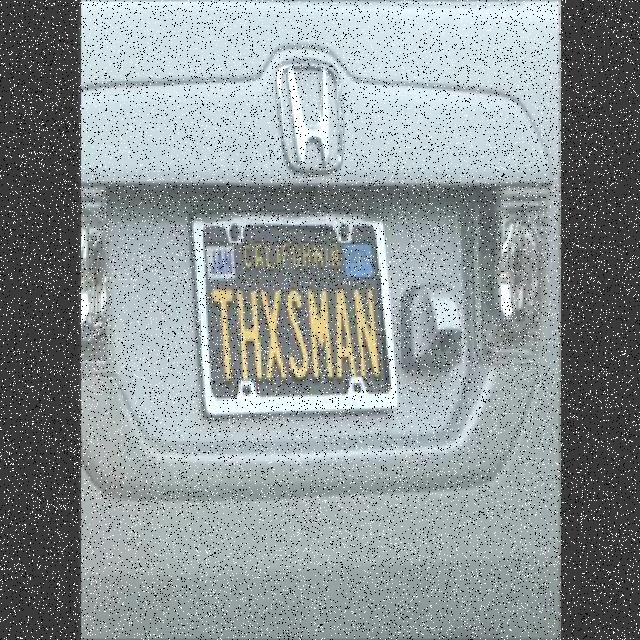licenseplate: (195, 210, 400, 413)
